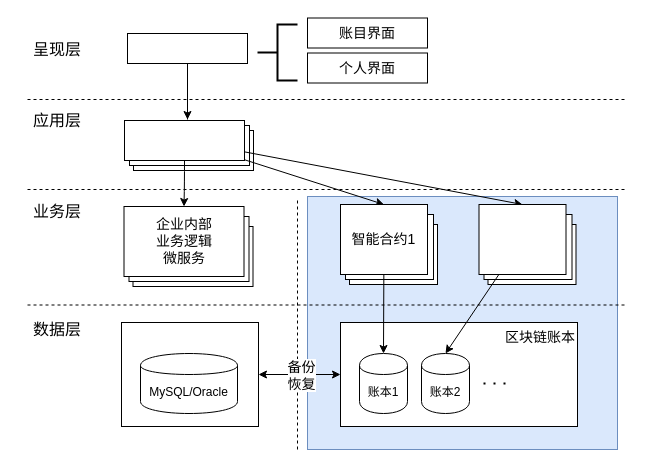
Image size: 646x468. Some labels were removed from this diagram. Here are the shapes that lost their labels. From the top down, the box of each, then its label:
(126, 32, 248, 64): 手机/网络界面
(124, 120, 244, 160): 应用程序
(478, 204, 566, 274): 智能合约2
(120, 322, 258, 426): 数据库
